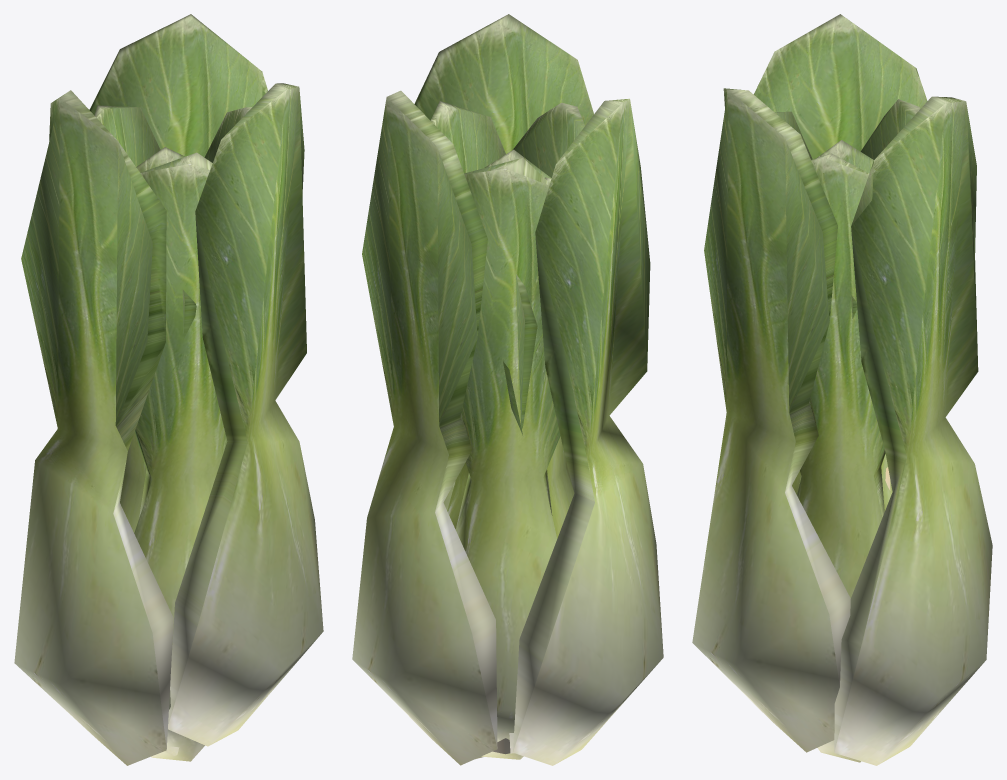
Rendered from CheongGeong0.fbx.
3 views of the same model, side by side, from view 1: azimuth 30°, elevation 25°; view 2: azimuth 150°, elevation 25°; view 3: azimuth 270°, elevation 25° (orthographic).
Visible parts, largest first — view 1: Cylinder; view 2: Cylinder; view 3: Cylinder.
Part boxes in pixels (left/top/right/bottom): Cylinder: left=14, top=14, right=323, bottom=765; Cylinder: left=352, top=14, right=663, bottom=765; Cylinder: left=692, top=14, right=992, bottom=765.
Size of the model in its own units: 75.16 by 180 by 71.16.
